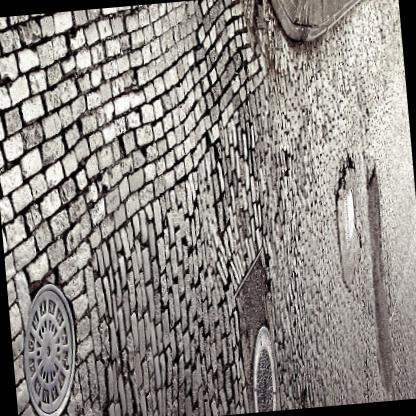manholes: (6, 275, 93, 416), (231, 323, 290, 414), (323, 176, 366, 253)
